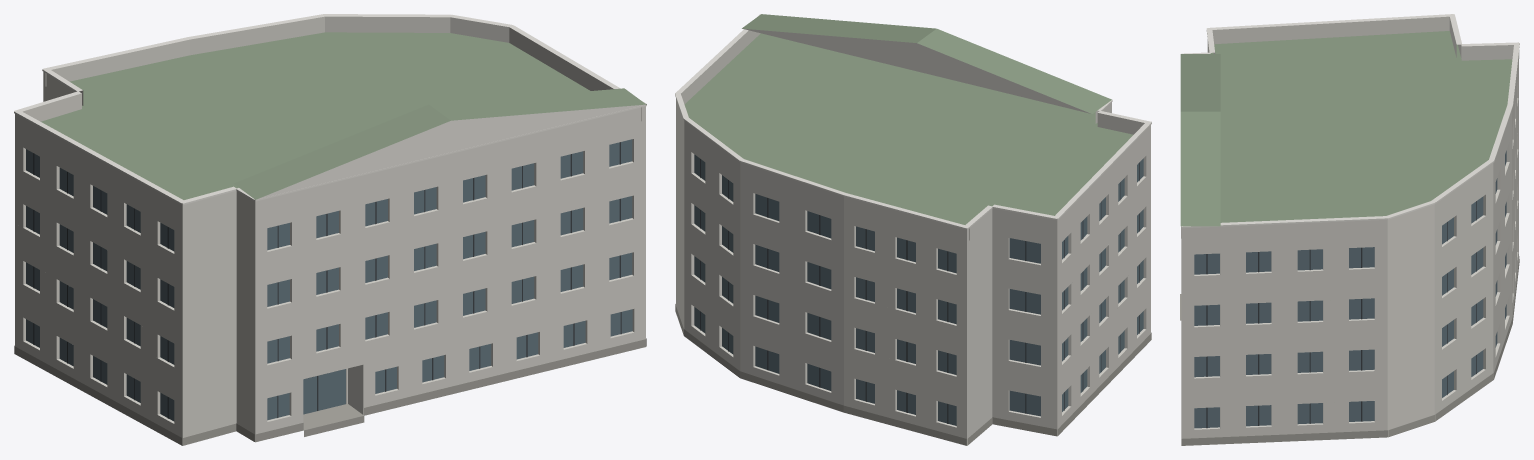
The picture shows the model from 3 angles, left to right: view 1: azimuth 30°, elevation 25°; view 2: azimuth 150°, elevation 25°; view 3: azimuth 270°, elevation 25°; orthographic projection. The views are drawn at different scales.
Visible parts, largest first — view 1: gymC__wall, gymC__roof, gymC__glass, gymC__parapet, gymC__trim, gymC__base, gymC__frame; view 2: gymC__wall, gymC__roof, gymC__glass, gymC__trim, gymC__parapet, gymC__base, gymC__frame; view 3: gymC__wall, gymC__roof, gymC__glass, gymC__parapet, gymC__trim, gymC__base, gymC__frame.
Boxes of the visible parts, x1=… form: gymC__wall: x1=15, y1=85, x2=645, y2=445; gymC__roof: x1=41, y1=32, x2=646, y2=445; gymC__glass: x1=26, y1=139, x2=632, y2=421; gymC__parapet: x1=15, y1=16, x2=645, y2=218; gymC__trim: x1=14, y1=14, x2=646, y2=204; gymC__base: x1=14, y1=338, x2=646, y2=445; gymC__frame: x1=33, y1=142, x2=621, y2=418; gymC__wall: x1=676, y1=108, x2=1150, y2=445; gymC__roof: x1=684, y1=14, x2=1133, y2=445; gymC__glass: x1=694, y1=154, x2=1143, y2=425; gymC__trim: x1=675, y1=14, x2=1151, y2=229; gymC__parapet: x1=676, y1=30, x2=1150, y2=241; gymC__base: x1=675, y1=304, x2=1151, y2=445; gymC__frame: x1=700, y1=159, x2=1139, y2=423; gymC__wall: x1=1181, y1=45, x2=1518, y2=445; gymC__roof: x1=1180, y1=31, x2=1512, y2=226; gymC__glass: x1=1194, y1=150, x2=1506, y2=428; gymC__parapet: x1=1181, y1=16, x2=1519, y2=240; gymC__trim: x1=1181, y1=14, x2=1519, y2=228; gymC__base: x1=1180, y1=256, x2=1519, y2=445; gymC__frame: x1=1206, y1=201, x2=1476, y2=428.
Bounding box in the file's own units: 32.07 × 17.8 × 21.64.
